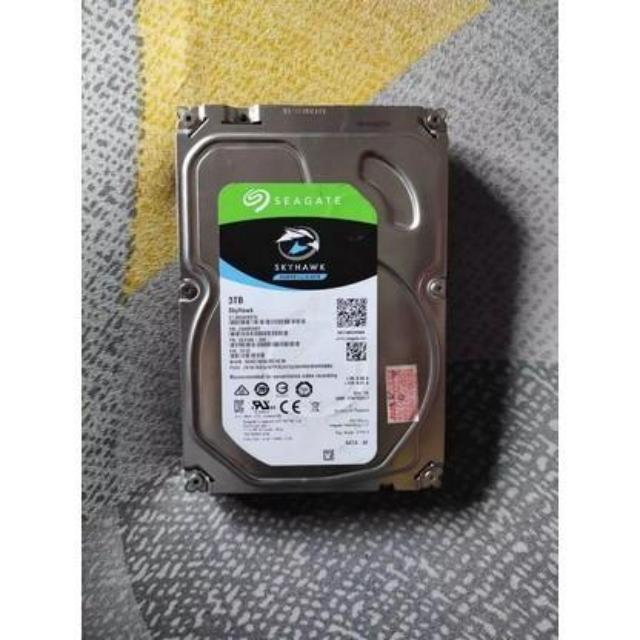DISK: (169, 90, 446, 508)
